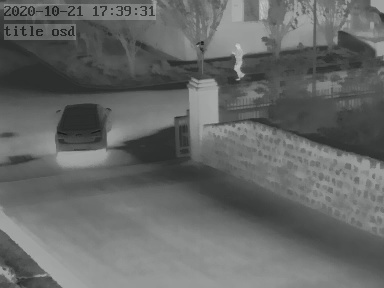person: (232, 42, 245, 78)
vehicle: (54, 98, 114, 157)
